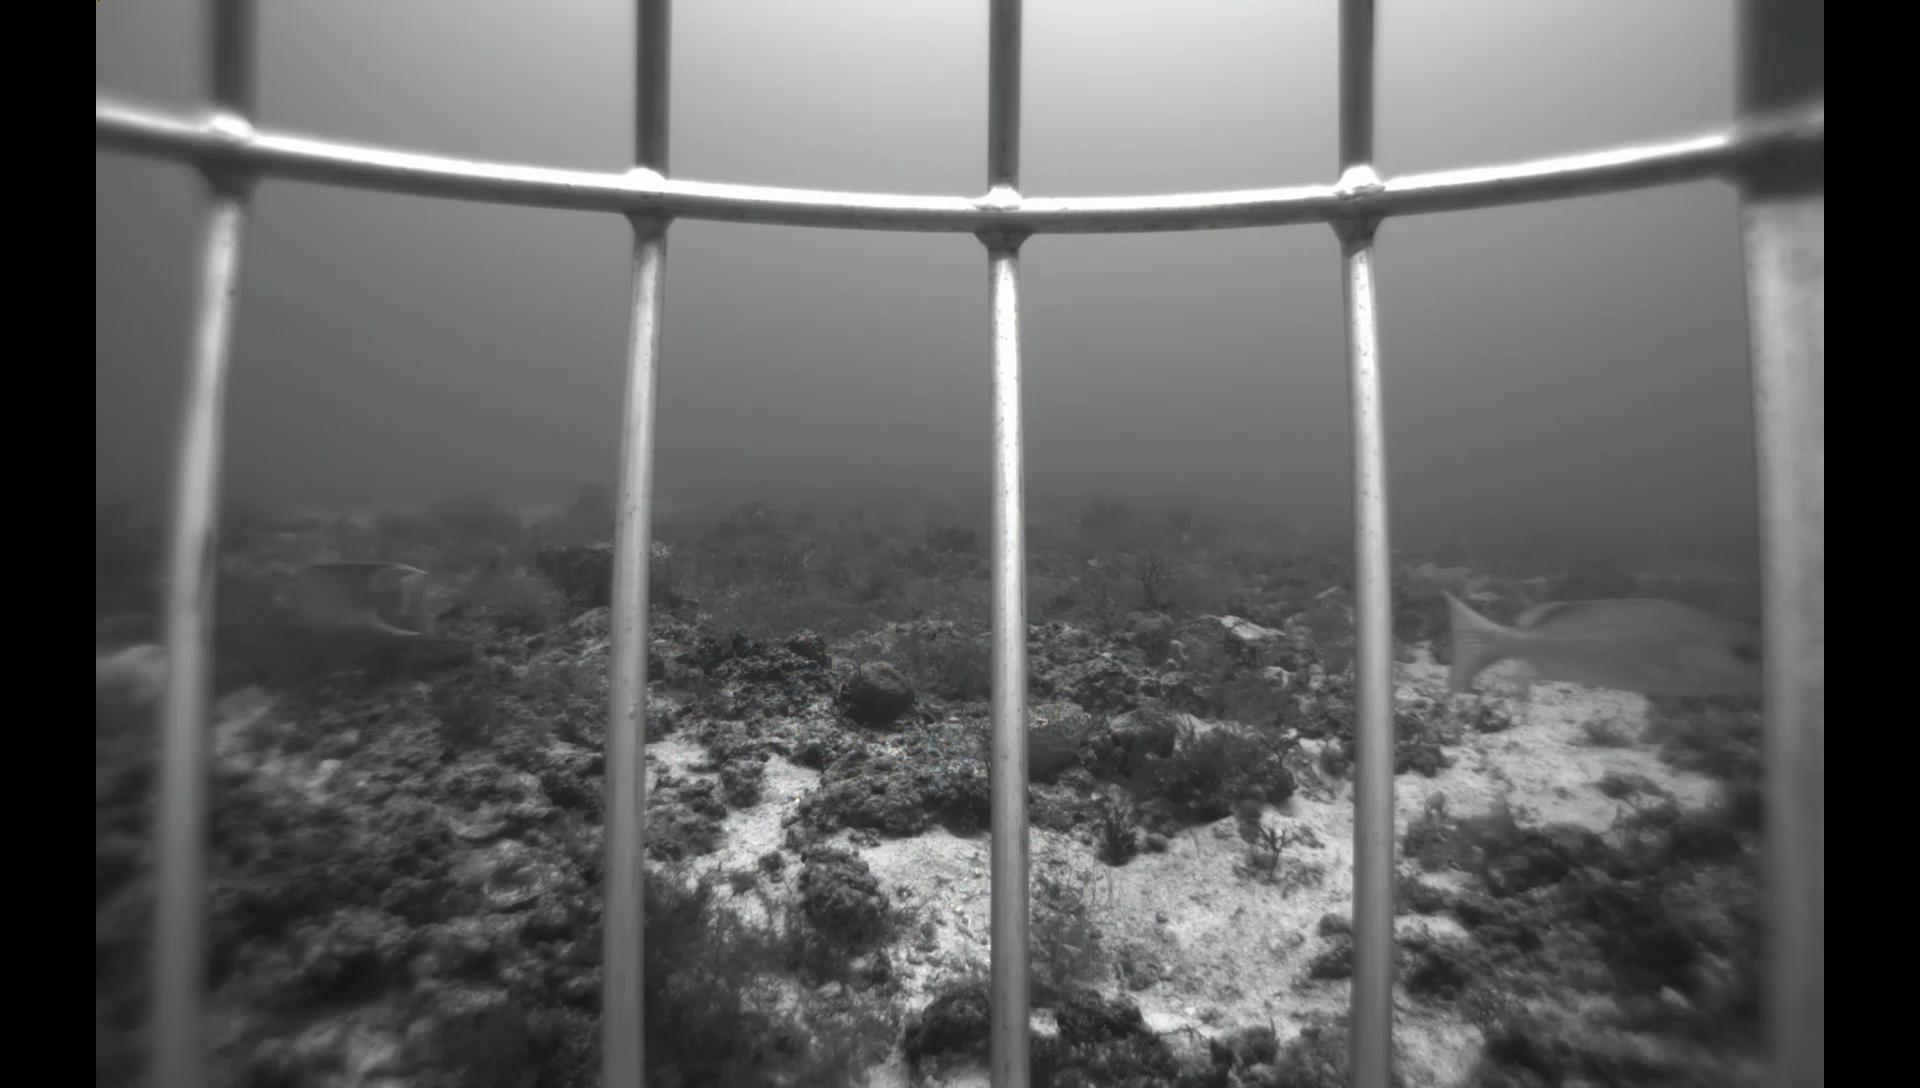HOLACANTHUSBERMUDENSIS-170290102: (262, 553, 440, 648)
LUTJANUSGRISEUS-170151109: (1422, 568, 1764, 721)
MYCTEROPERCAPHENAX-170022105: (847, 514, 890, 559)
